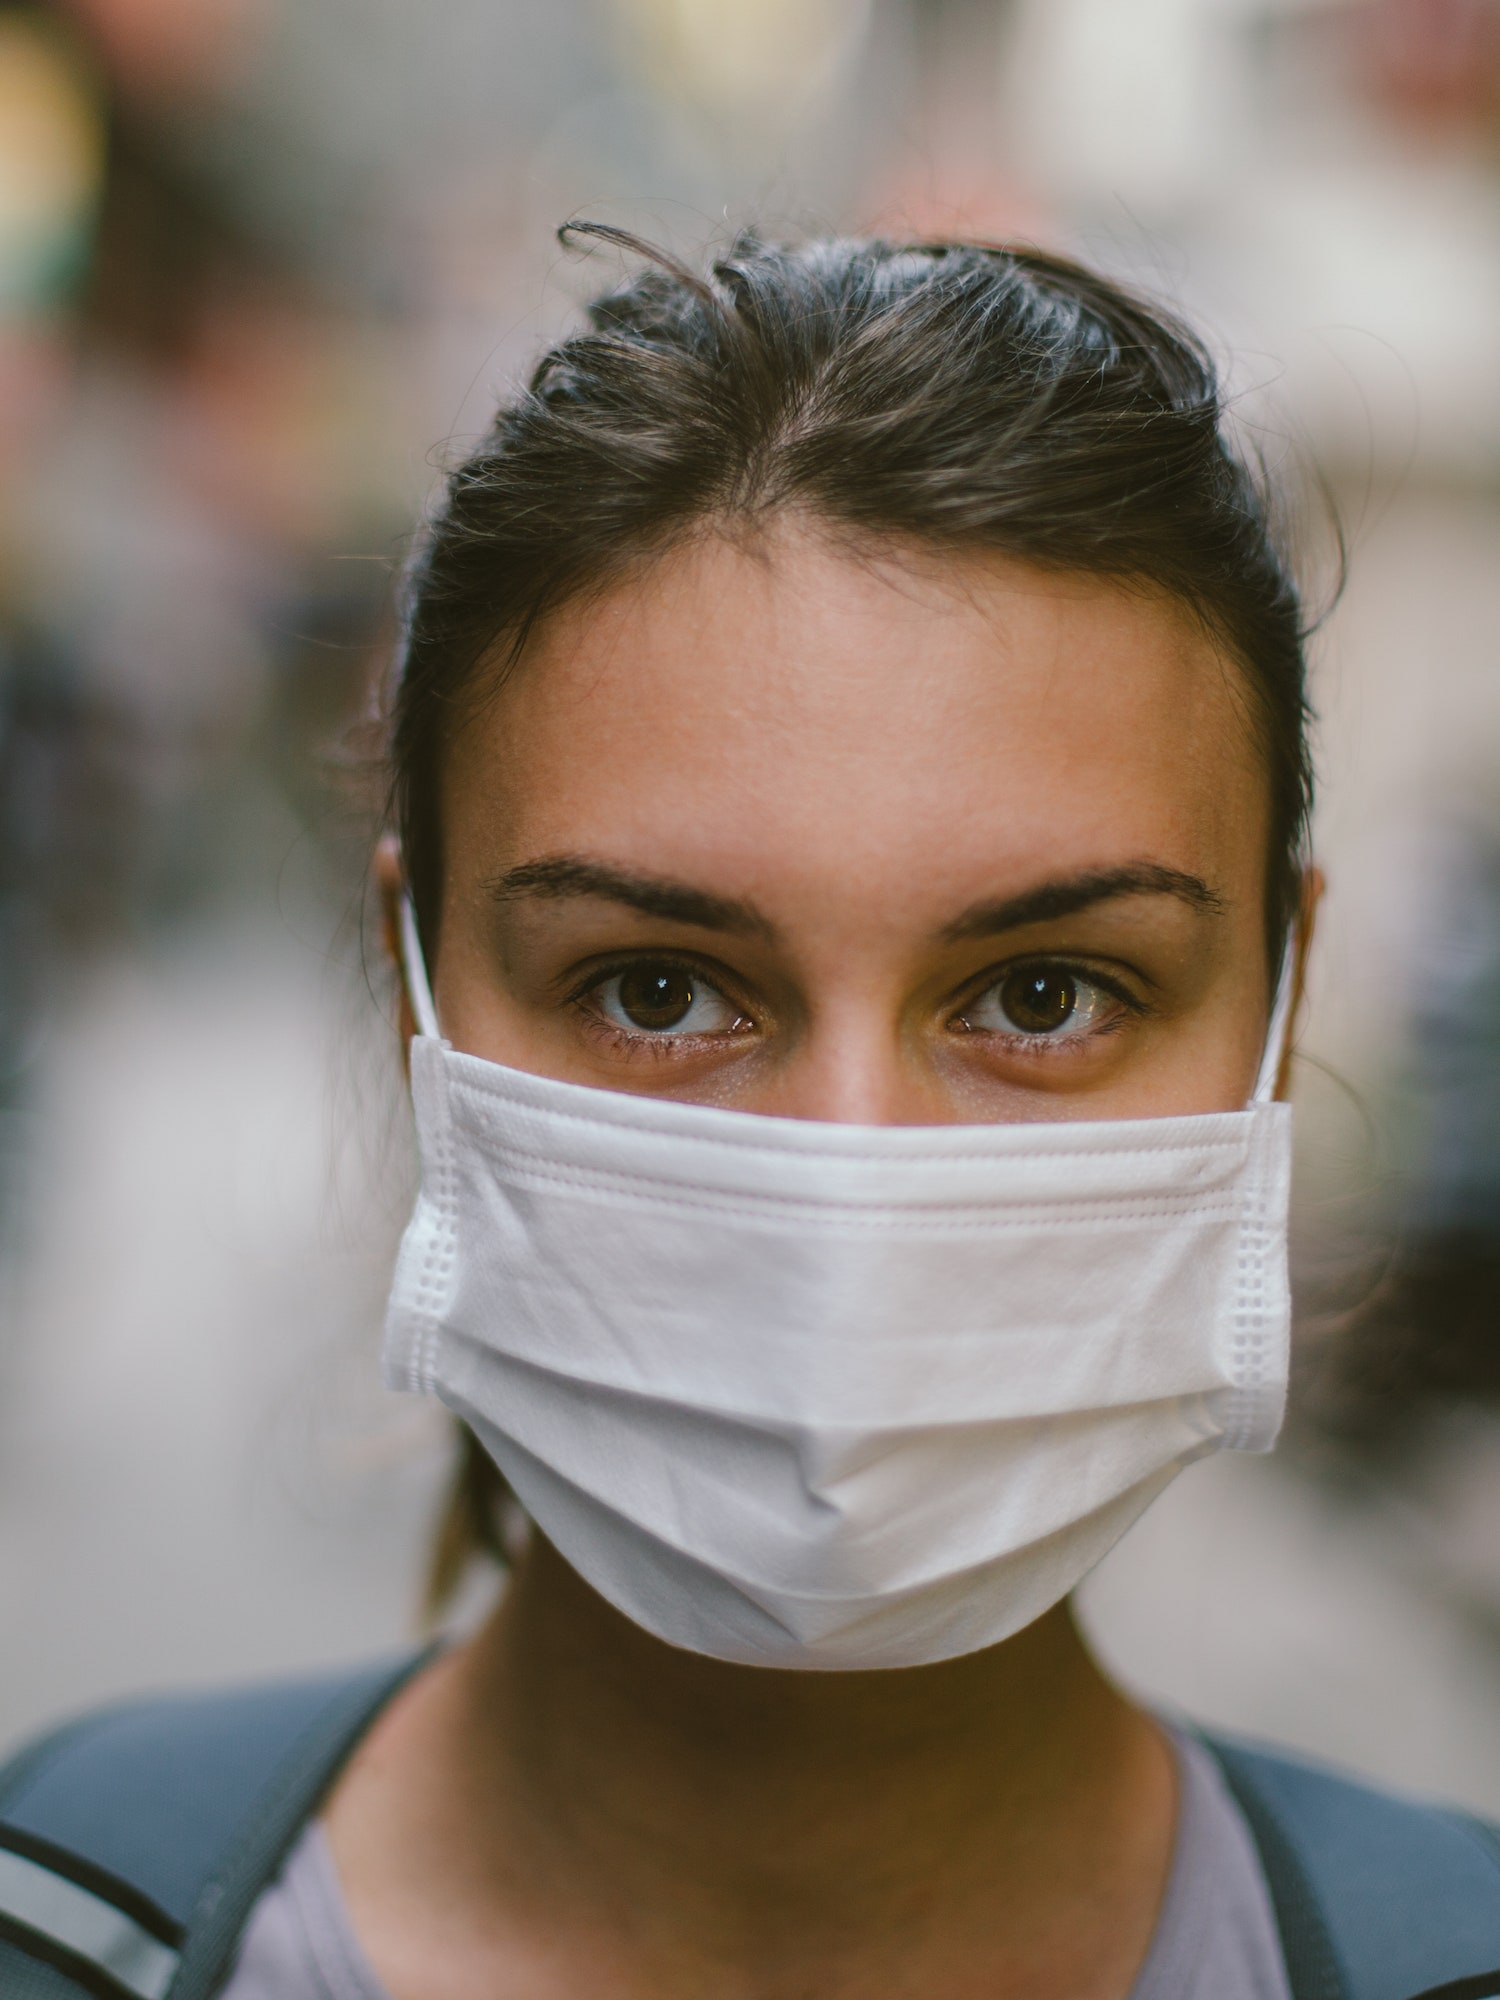with_mask: (351, 268, 1371, 1681)
